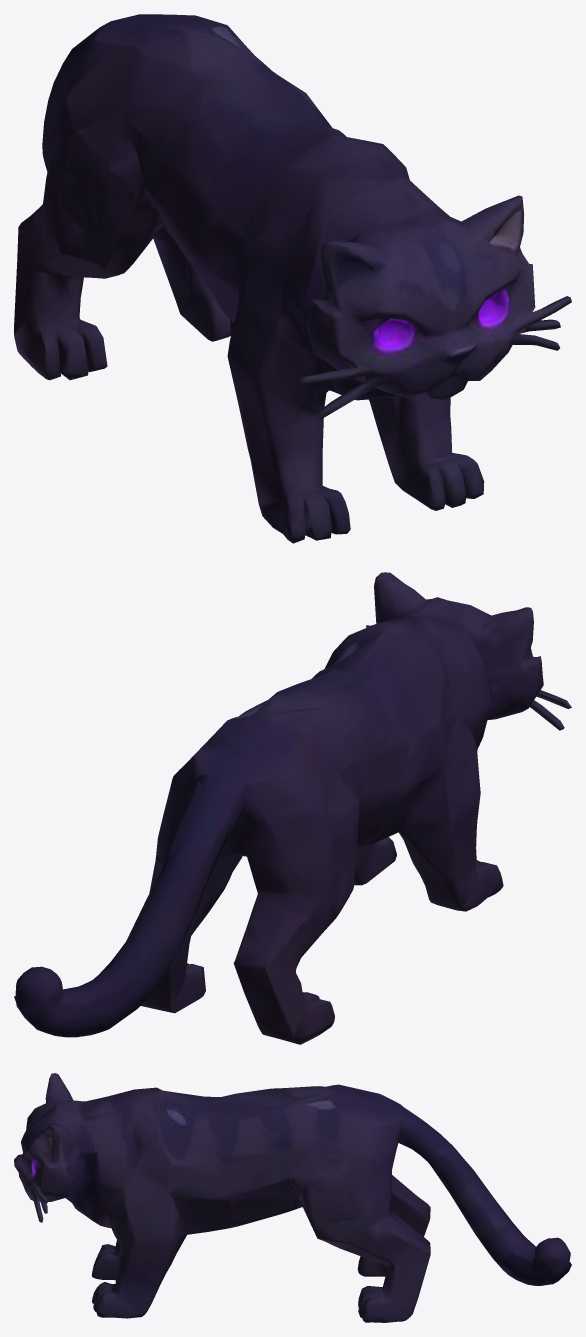
File: dusk_stalker.glb
3 renders of one model, top to bottom at view 1: azimuth 30°, elevation 25°; view 2: azimuth 150°, elevation 25°; view 3: azimuth 270°, elevation 25°, orthographic. The views are drawn at different scales.
Visible parts, largest first — view 1: tripo_node_8f7bd7ce-7257-4167-b729-83707ddb9832; view 2: tripo_node_8f7bd7ce-7257-4167-b729-83707ddb9832; view 3: tripo_node_8f7bd7ce-7257-4167-b729-83707ddb9832.
Boxes of the visible parts, left/top/right/bottom form: tripo_node_8f7bd7ce-7257-4167-b729-83707ddb9832: left=14, top=14, right=571, bottom=543; tripo_node_8f7bd7ce-7257-4167-b729-83707ddb9832: left=14, top=572, right=571, bottom=1044; tripo_node_8f7bd7ce-7257-4167-b729-83707ddb9832: left=14, top=1073, right=571, bottom=1322.
Bounding box in the file's own units: 0.3293 × 0.4019 × 1.
Materials: 1 (1 with a texture image).
